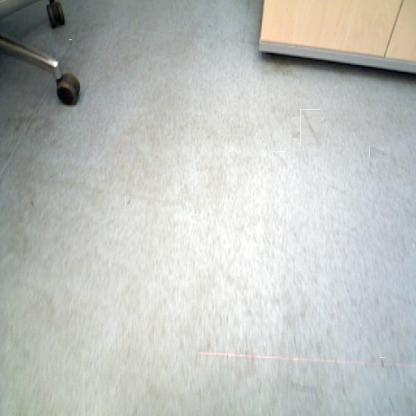mark: (296, 113, 325, 142), (369, 146, 390, 158), (272, 151, 287, 166), (379, 357, 385, 370), (125, 196, 132, 206), (28, 198, 34, 208), (68, 39, 72, 46)
